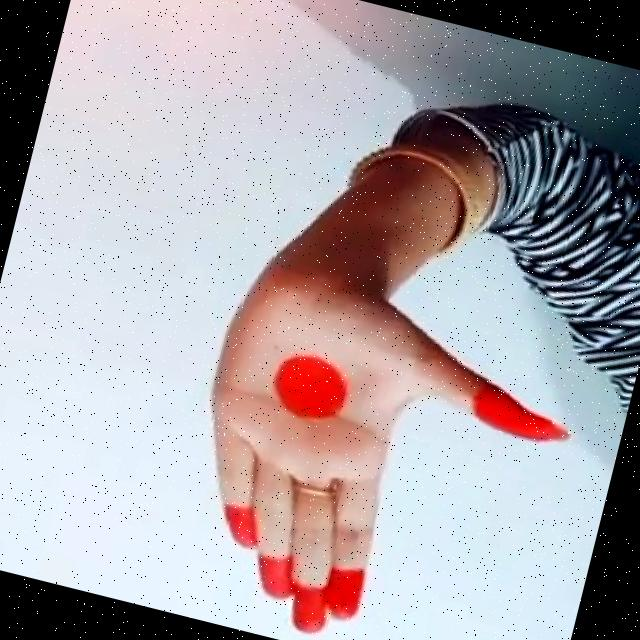Ardhachandra: (146, 271, 603, 640)
bangle: (303, 110, 512, 278)
